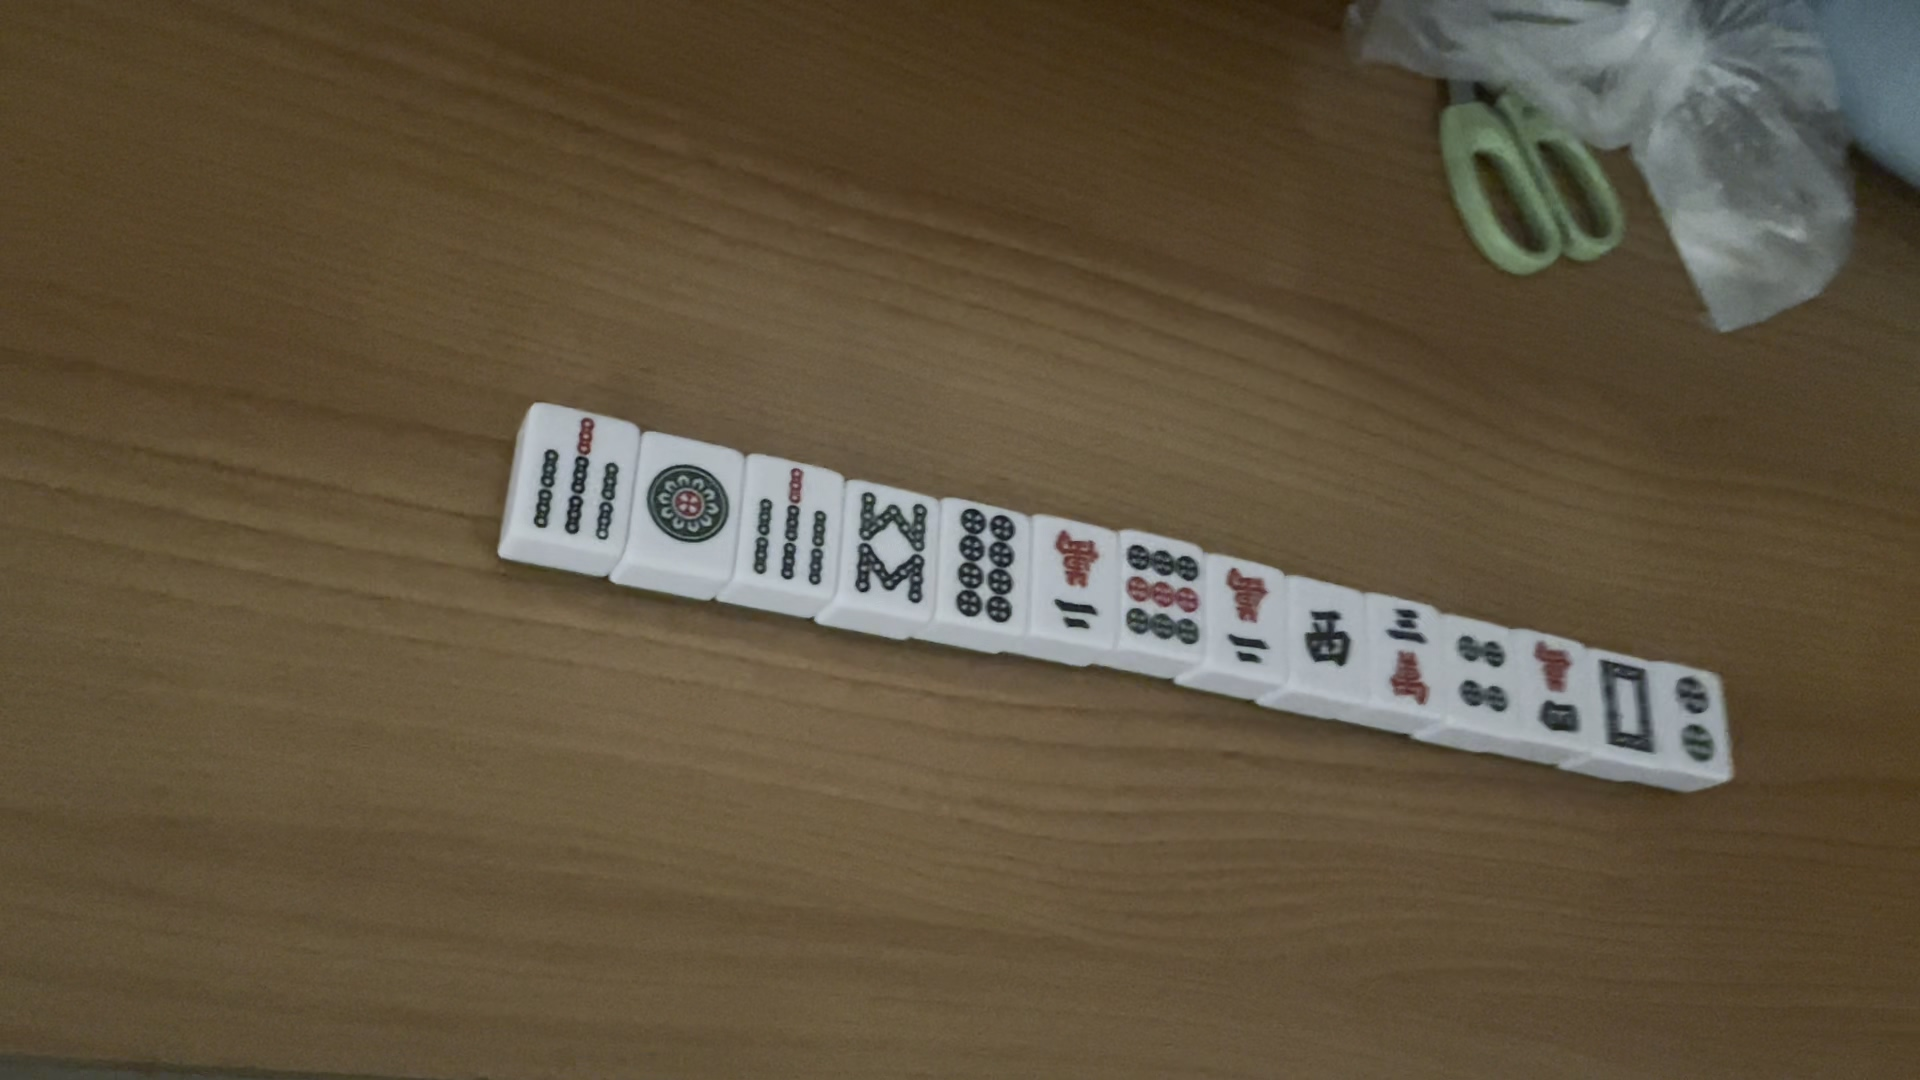b-7: (527, 415, 622, 543), (741, 460, 836, 588)
b-8: (855, 488, 931, 605)
c-2: (1215, 560, 1278, 673), (1044, 524, 1104, 640)
c-3: (1381, 605, 1432, 709)
c-4: (1528, 637, 1589, 740)
d-1: (645, 454, 732, 551)
d-2: (1662, 666, 1727, 773)
d-4: (1451, 626, 1513, 717)
d-8: (945, 498, 1019, 632)
d-9: (1118, 537, 1204, 650)
honors-west: (1296, 597, 1357, 676)
honors-white: (1597, 654, 1662, 764)
